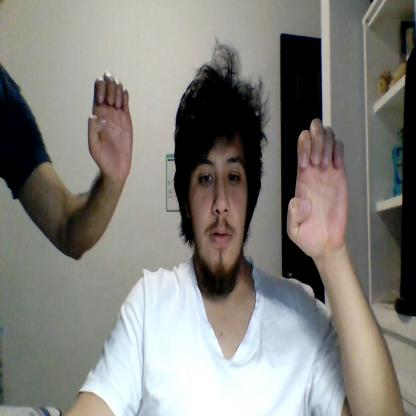E: (286, 119, 348, 254), (87, 72, 134, 182)
